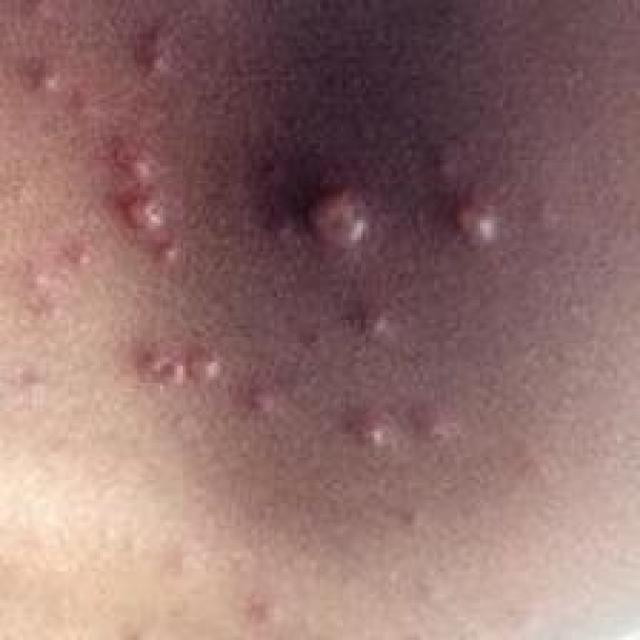others: (27, 0, 640, 606)
